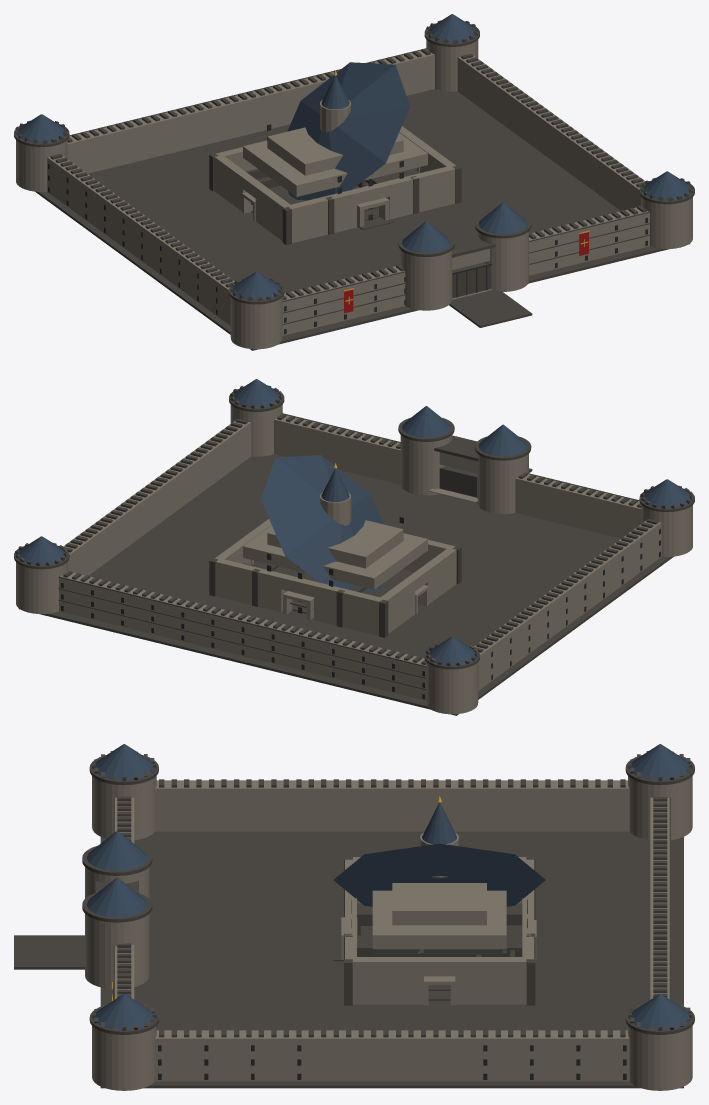
Rendered from altdorf_castle.glb.
3 views of the same model, one above another, from view 1: azimuth 30°, elevation 25°; view 2: azimuth 150°, elevation 25°; view 3: azimuth 270°, elevation 25° (orthographic). The views are drawn at different scales.
Parts seen in each view (by area): view 1: castle_foundation, castle_rear_wall, inner_keep_roof, castle_left_wall, castle_right_wall, castle_front_wall_left, castle_front_wall_right, inner_keep_mid, gatehouse_tower_-14.0, corner_tower_-75.0_68.0, inner_keep_front_right, inner_keep_front_left (+19 smaller); view 2: castle_foundation, castle_rear_wall, inner_keep_roof, castle_left_wall, castle_right_wall, castle_front_wall_left, castle_front_wall_right, inner_keep_mid, inner_keep_rear_right, corner_tower_-75.0_-68.0, inner_keep_rear_left, gatehouse_tower_-14.0 (+22 smaller); view 3: castle_foundation, castle_right_wall, castle_left_wall, inner_keep_roof, inner_keep_mid, inner_keep_upper, corner_tower_75.0_-68.0, corner_tower_75.0_68.0, gatehouse_tower_14.0, inner_keep_side_rear_30.0, inner_keep_side_front_30.0, corner_tower_-75.0_-68.0 (+15 smaller).
Part boxes in pixels (<box>): castle_foundation: <box>35,89,690,350</box>; castle_rear_wall: <box>67,49,434,173</box>; inner_keep_roof: <box>287,62,410,200</box>; castle_left_wall: <box>47,155,234,325</box>; castle_right_wall: <box>457,55,645,210</box>; castle_front_wall_left: <box>282,266,405,335</box>; castle_front_wall_right: <box>529,207,649,275</box>; inner_keep_mid: <box>243,132,427,196</box>; gatehouse_tower_-14.0: <box>400,250,452,310</box>; corner_tower_-75.0_68.0: <box>230,297,282,349</box>; inner_keep_front_right: <box>386,166,455,219</box>; inner_keep_front_left: <box>288,190,356,243</box>; castle_foundation: <box>18,454,673,715</box>; castle_rear_wall: <box>59,571,426,700</box>; inner_keep_roof: <box>260,455,383,592</box>; castle_left_wall: <box>474,520,661,690</box>; castle_right_wall: <box>63,420,251,575</box>; castle_front_wall_left: <box>515,474,641,538</box>; castle_front_wall_right: <box>274,415,400,484</box>; inner_keep_mid: <box>243,525,427,589</box>; inner_keep_rear_right: <box>215,559,285,611</box>; corner_tower_-75.0_-68.0: <box>426,662,478,714</box>; inner_keep_rear_left: <box>314,582,382,635</box>; gatehouse_tower_-14.0: <box>477,453,528,514</box>; castle_foundation: <box>100,831,683,1088</box>; castle_right_wall: <box>155,1030,629,1081</box>; castle_left_wall: <box>155,780,629,831</box>; inner_keep_roof: <box>333,843,545,906</box>; inner_keep_mid: <box>372,890,506,949</box>; inner_keep_upper: <box>392,883,486,925</box>; corner_tower_75.0_-68.0: <box>628,1026,692,1090</box>; corner_tower_75.0_68.0: <box>92,1026,156,1090</box>; gatehouse_tower_14.0: <box>85,914,149,988</box>; inner_keep_side_rear_30.0: <box>455,957,526,1004</box>; inner_keep_side_front_30.0: <box>353,957,423,1004</box>; corner_tower_-75.0_-68.0: <box>628,776,692,840</box>.
Bounding box in the file's own units: 168 × 44.75 × 173.
